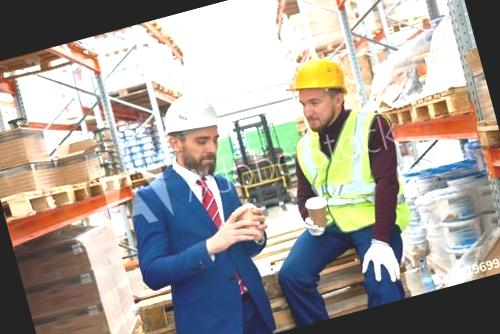helmet: (151, 89, 230, 154), (274, 47, 354, 110)
no_vest: (125, 154, 276, 330)
person: (244, 42, 434, 312), (96, 85, 286, 334)
